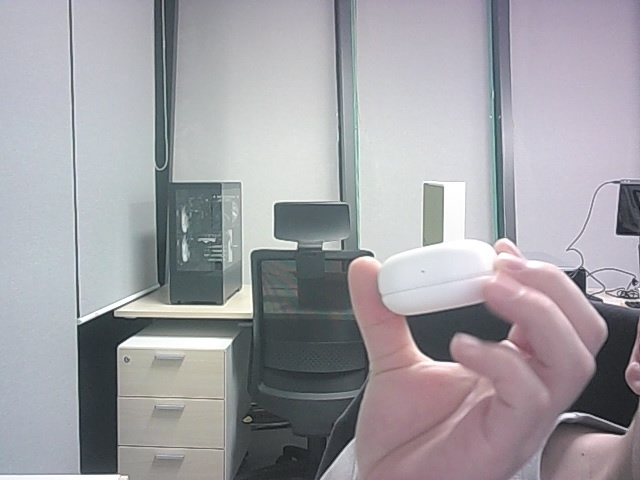case: (378, 240, 496, 316)
